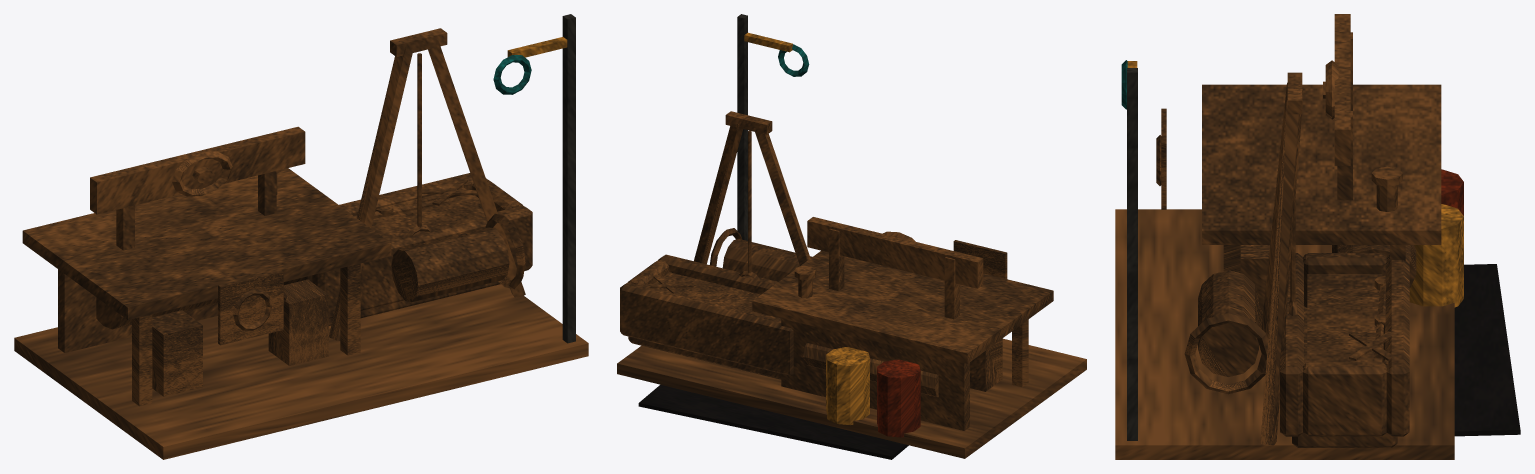
Rendered from west-way-station.glb.
3 views of the same model, side by side, from view 1: azimuth 30°, elevation 25°; view 2: azimuth 150°, elevation 25°; view 3: azimuth 270°, elevation 25° (orthographic). The views are drawn at different scales.
Parts seen in each view (by area): view 1: west-way-station; view 2: west-way-station; view 3: west-way-station.
Part boxes in pixels (x1,y1,x2,y2): west-way-station: (14,14,588,459); west-way-station: (617,14,1086,459); west-way-station: (1115,14,1520,459).
Bounding box in the file's own units: 8.6 × 6.32 × 5.97.
Materials: 1 (1 with a texture image).
